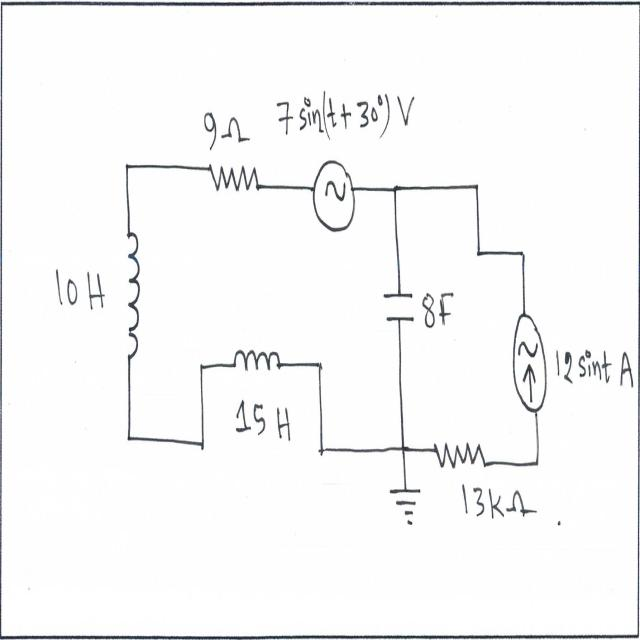ac_current: (311, 156, 357, 238)
capacitor: (383, 281, 416, 331)
current_source: (511, 312, 551, 420)
ground: (388, 482, 424, 534)
inductor: (124, 230, 141, 362), (231, 343, 280, 382)
resistor: (429, 424, 488, 480), (208, 160, 260, 208)
